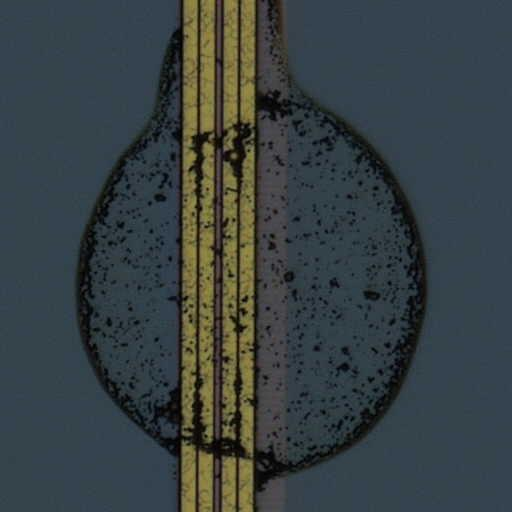PO CONTAMINATION: (76, 1, 430, 493)
